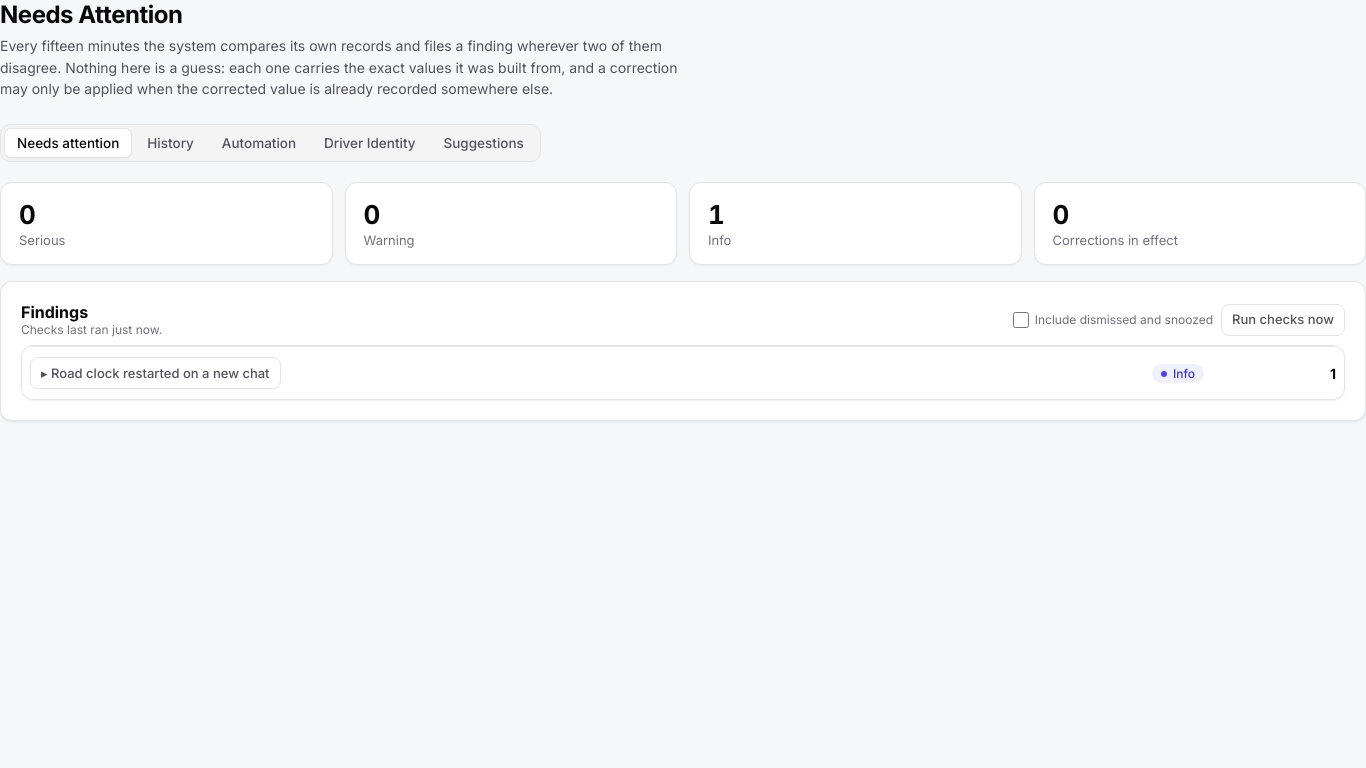
Test: an approval-tier finding › offers Apply — a decision an administrator can take, not a report
Step 1. Click the button "▸ Road clock restarted on a new chat" → (155, 373), box [30,357,280,389]
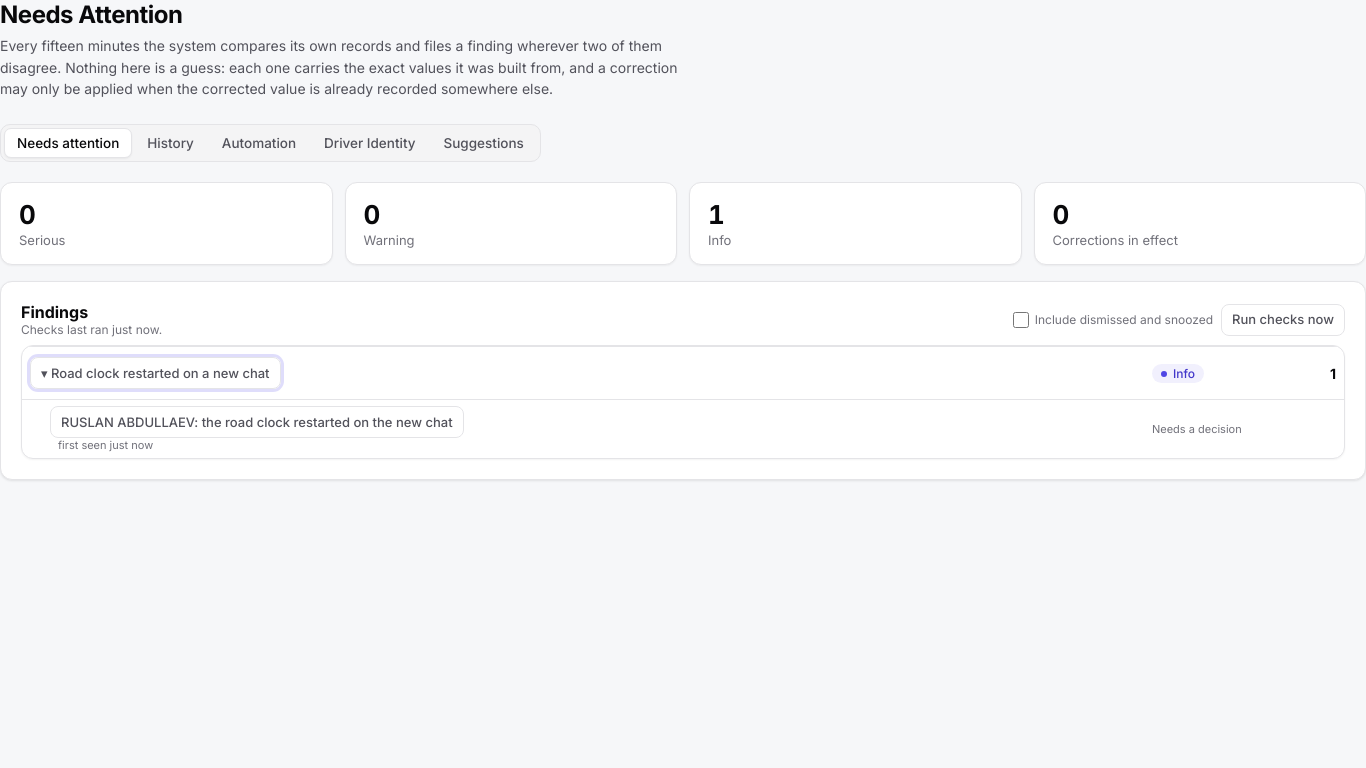
Step 2. Click the button "RUSLAN ABDULLAEV: the road clock restarted on the new chat" → (257, 422), box [50,406,464,438]
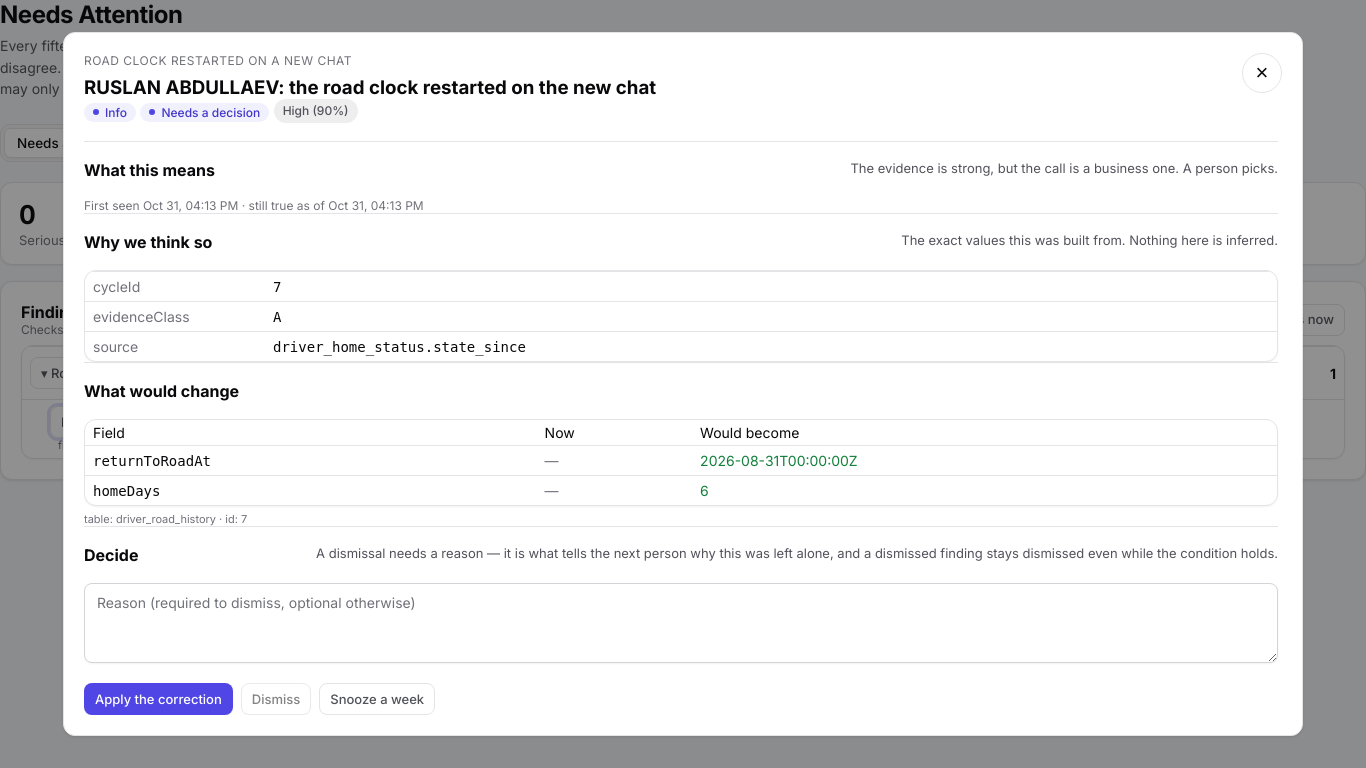
Expected: the button named "Close finding details" is shown, [1242,53,1282,93]
Expected: the button "Apply the correction" is shown, [84,683,233,715]
